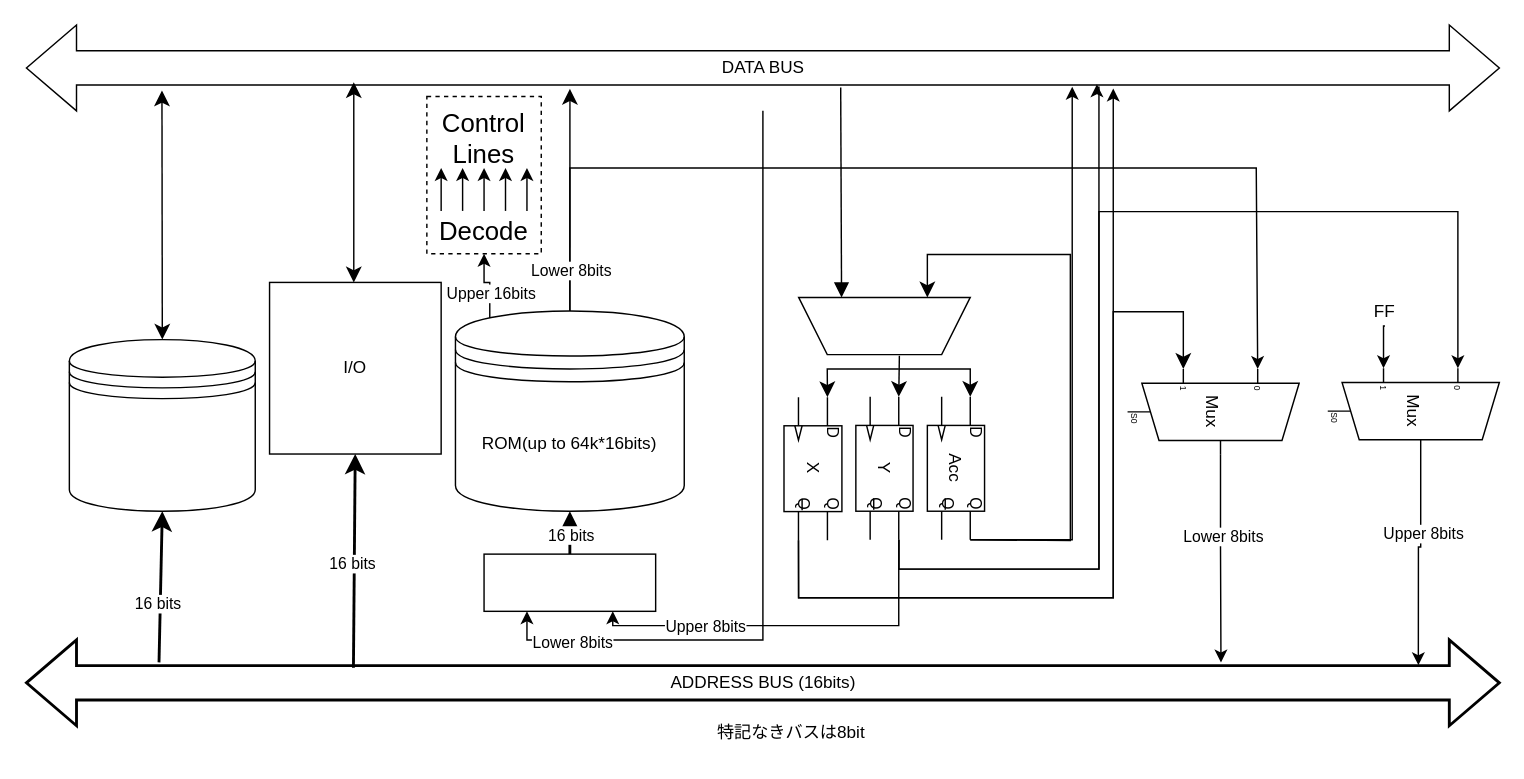
Some shapes in this 1524 by 779 pixel diagram are drawn without their labels. Each missing label, with the centre of its shape:
ALU: the point at 883,325
PC(16bits): the point at 569,582
RAM(up to 64k*8bits): the point at 161,424
